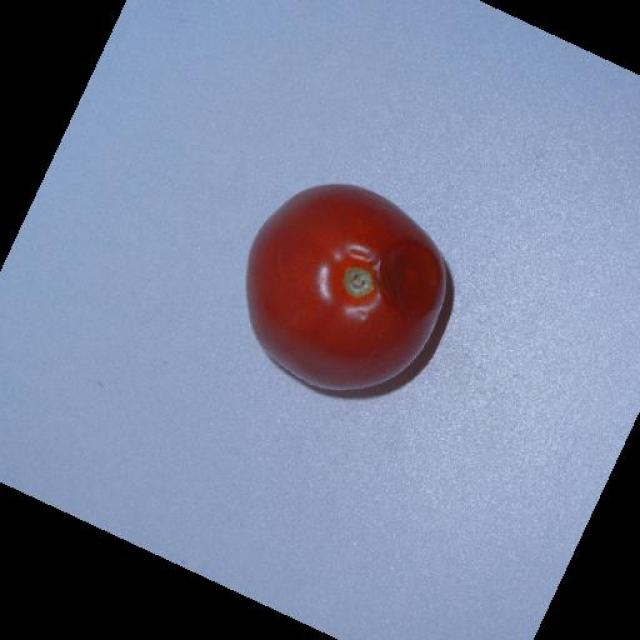Stale_tomato: (324, 227, 488, 395)
